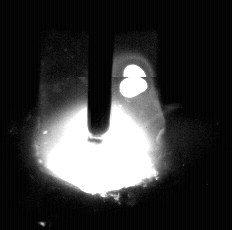arame: (88, 0, 112, 137)
poca: (32, 0, 164, 230)
